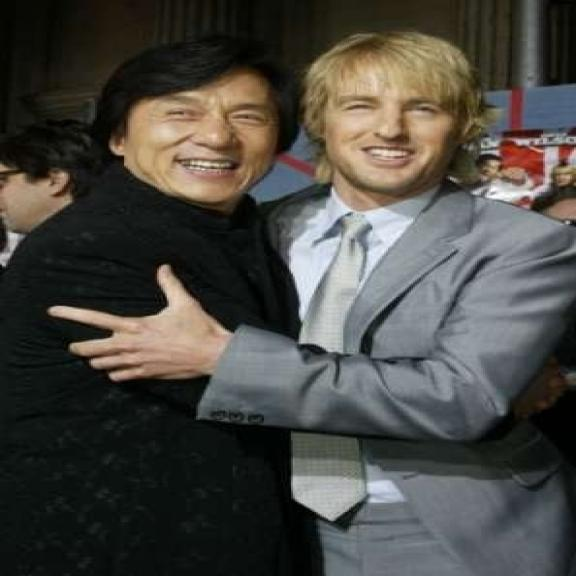face: (103, 70, 291, 208), (312, 58, 480, 196)
